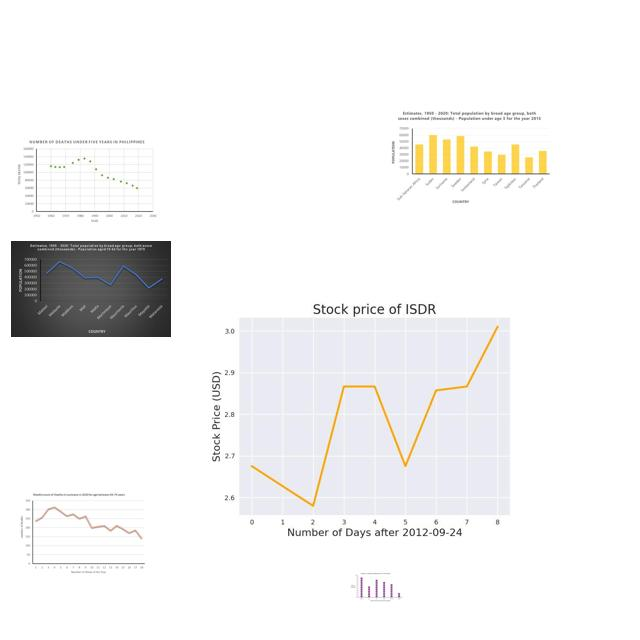Graph: (184, 287, 556, 543), (390, 111, 554, 205), (11, 241, 171, 337), (14, 137, 160, 227), (17, 491, 148, 577), (349, 571, 404, 603)
